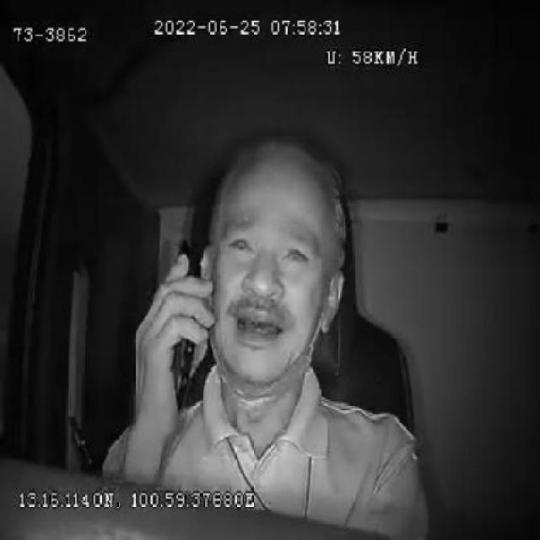phone: (167, 238, 200, 413)
